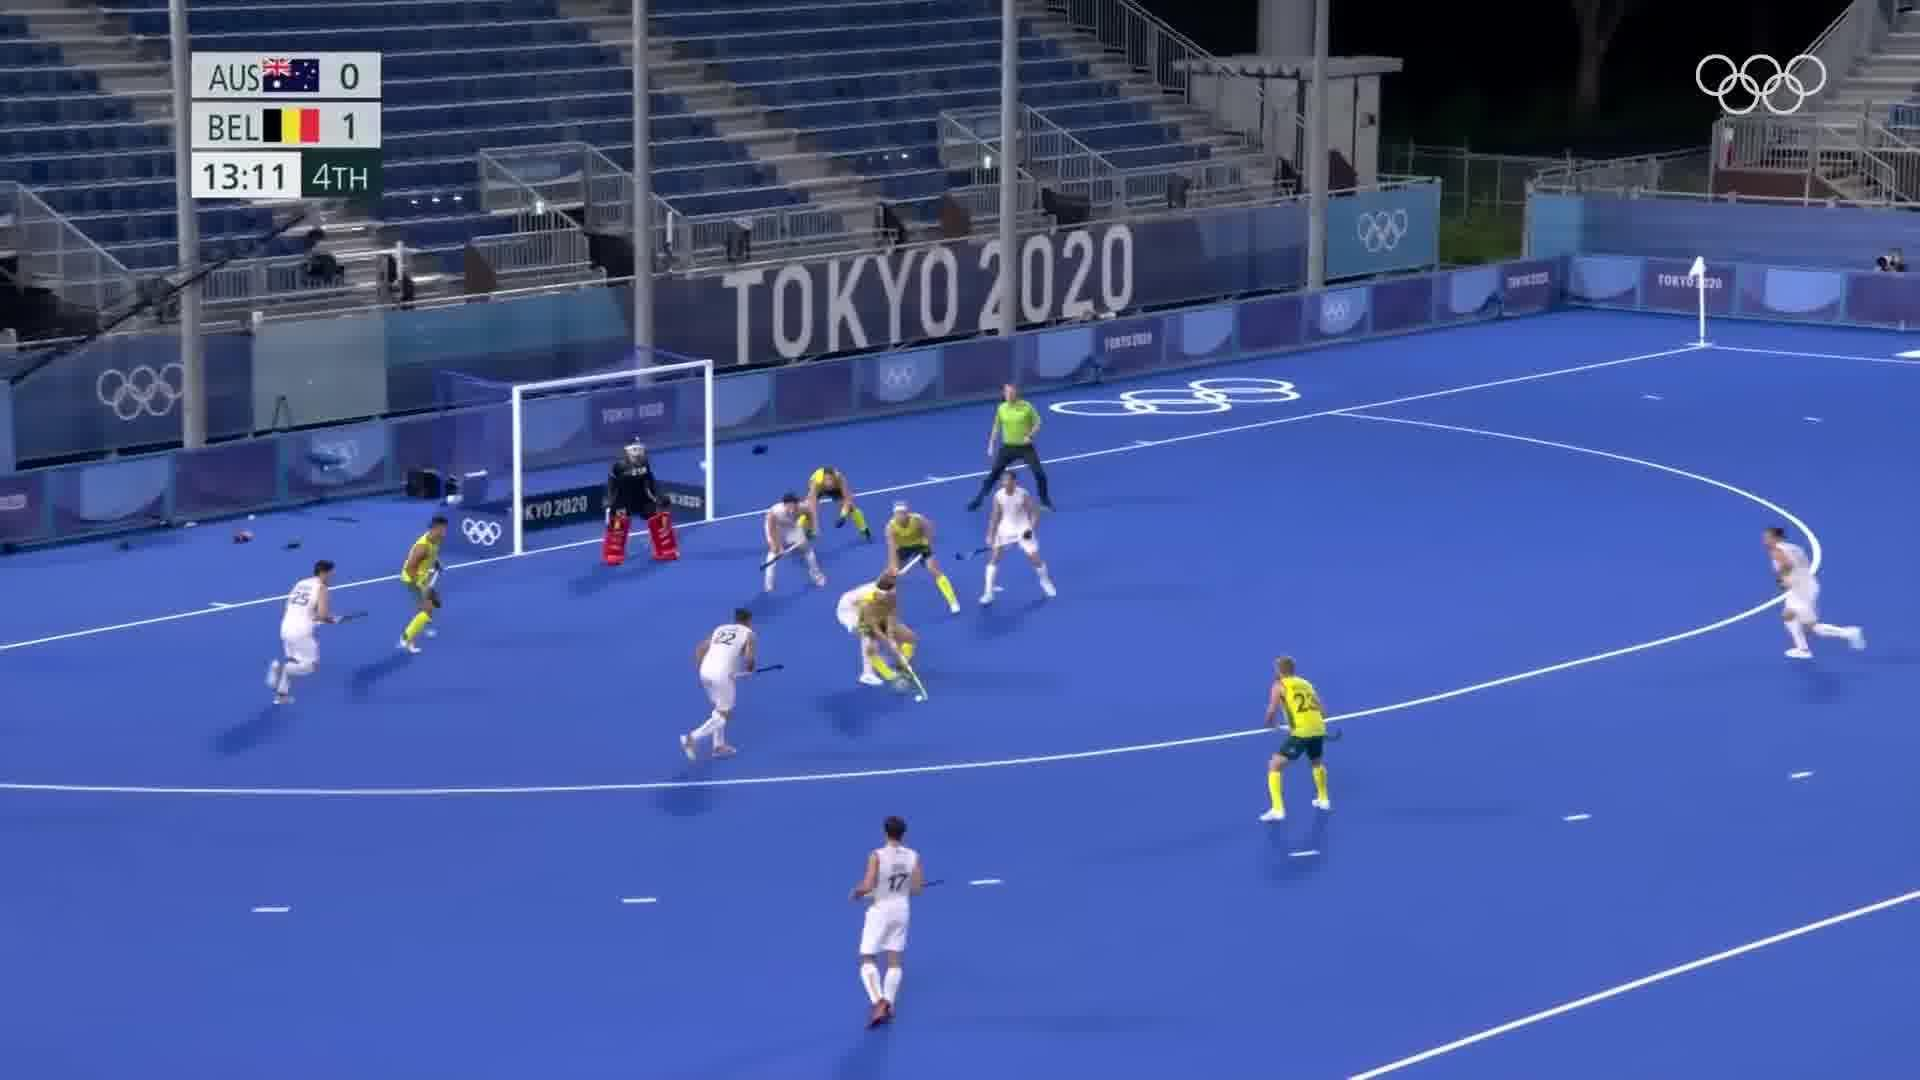ball: (913, 691, 924, 705)
